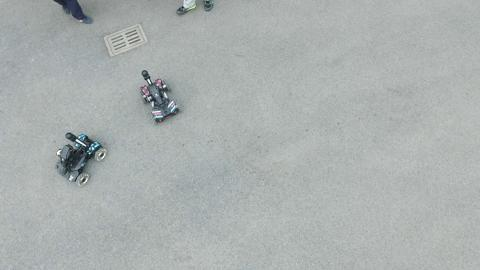chariot: (55, 129, 108, 186), (136, 67, 179, 124)
